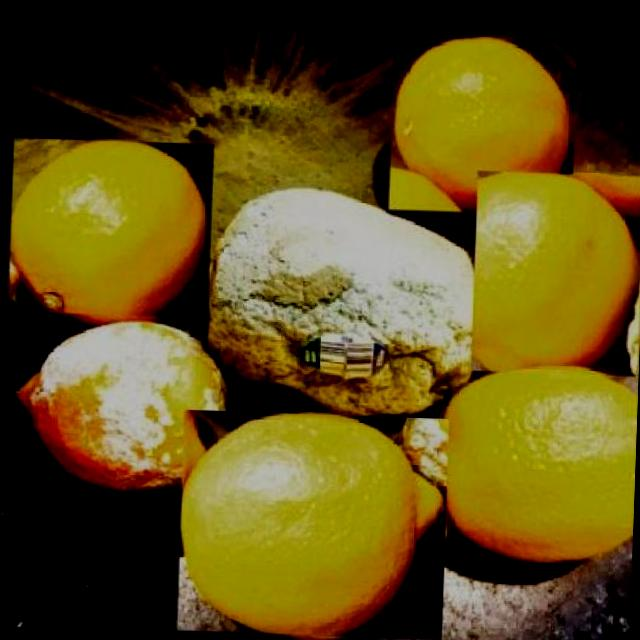Orange: (175, 409, 448, 640), (435, 360, 633, 560), (11, 320, 241, 484), (7, 138, 213, 318), (470, 170, 640, 376), (388, 36, 577, 216)
